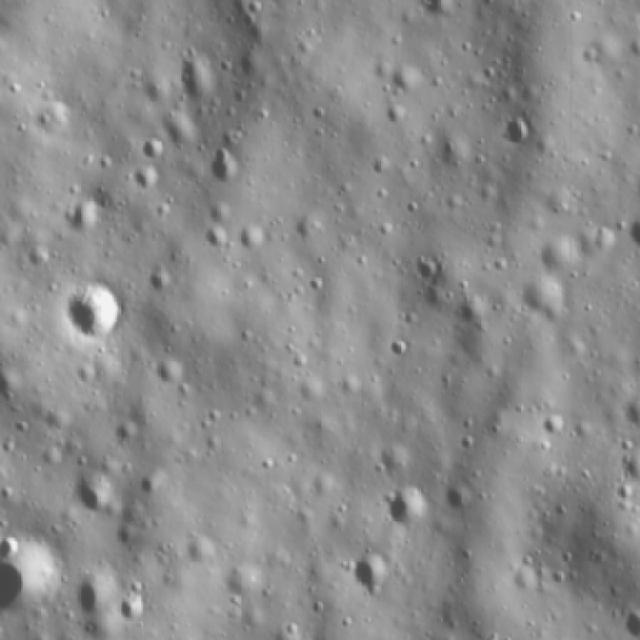crater: (55, 276, 133, 346), (0, 546, 35, 618), (348, 548, 394, 602), (380, 488, 434, 534), (71, 568, 114, 624), (77, 471, 114, 520), (492, 110, 532, 150), (133, 468, 167, 502), (615, 600, 640, 640)
